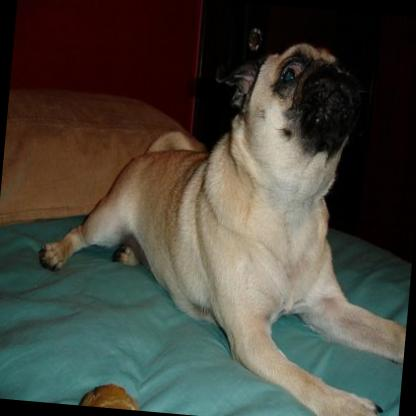pug: (25, 20, 416, 416)
